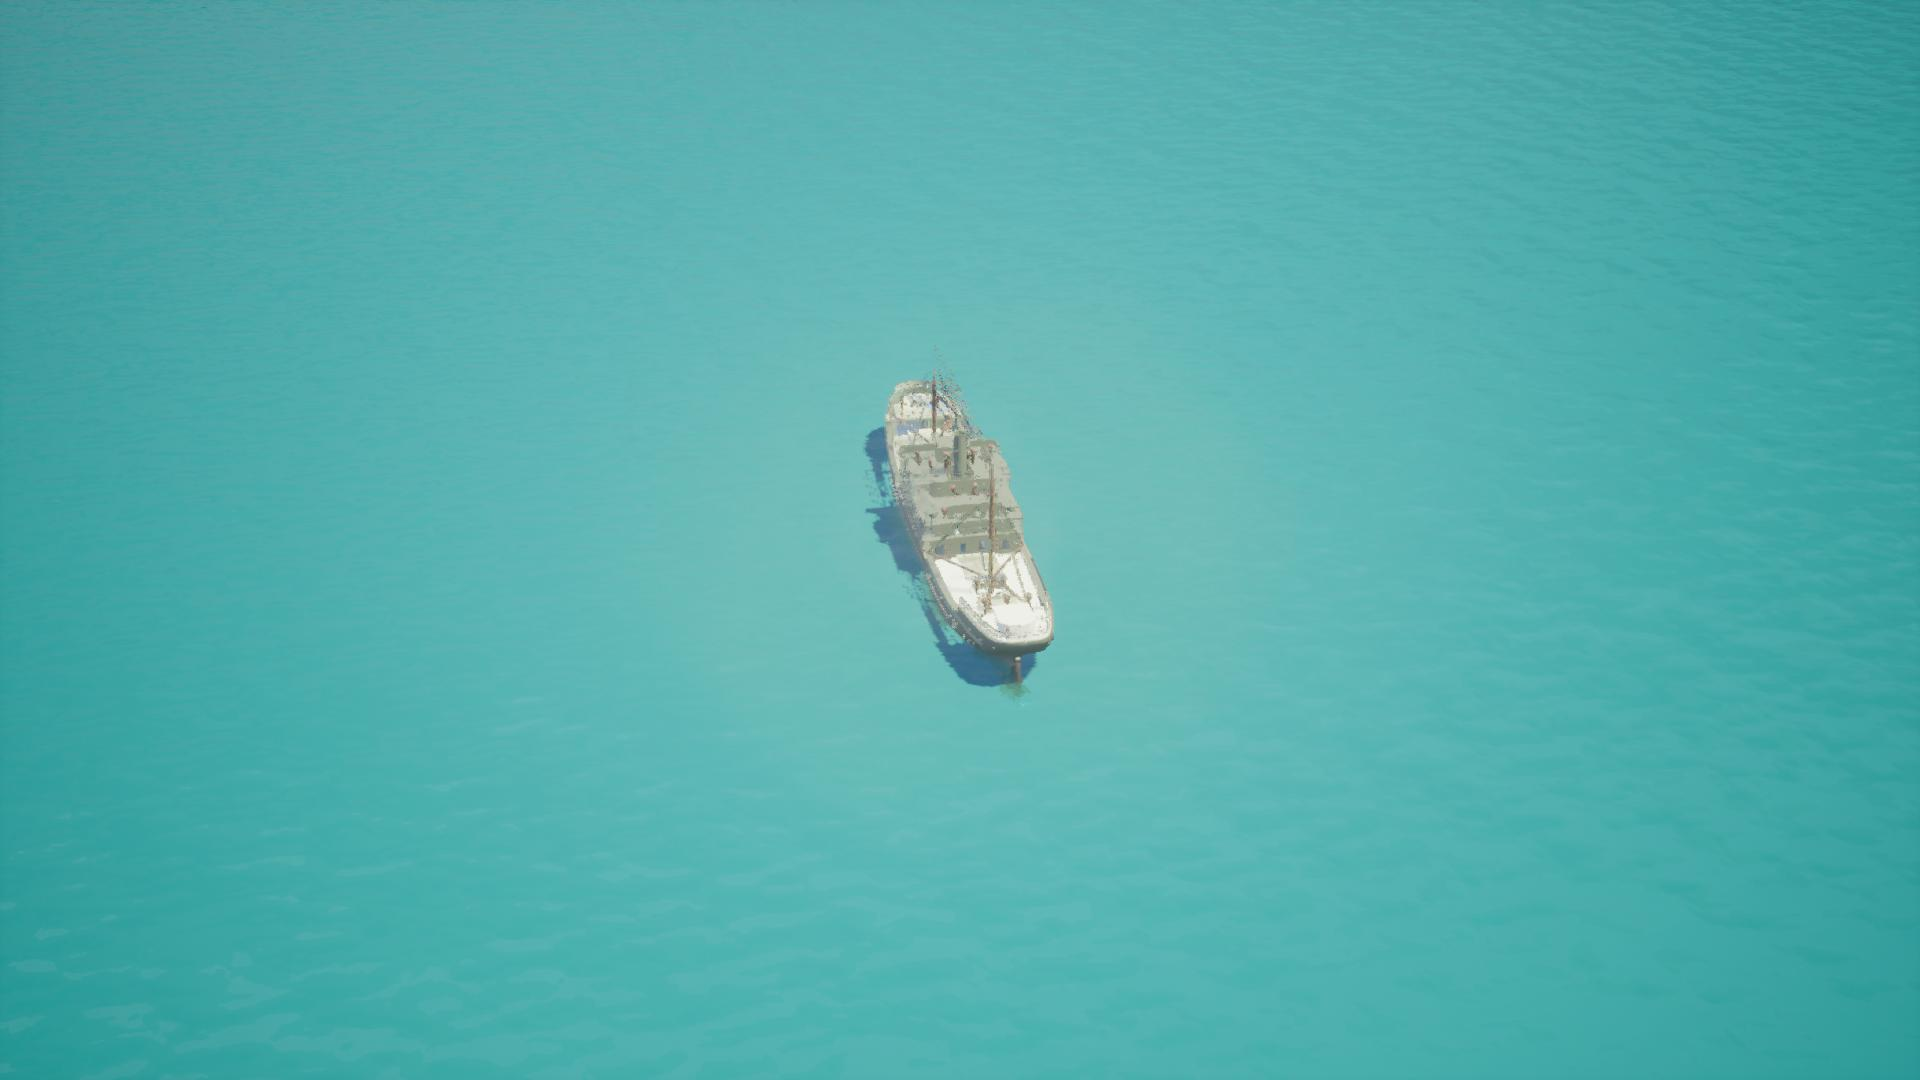Fishing Boat: (835, 355, 1174, 733)
